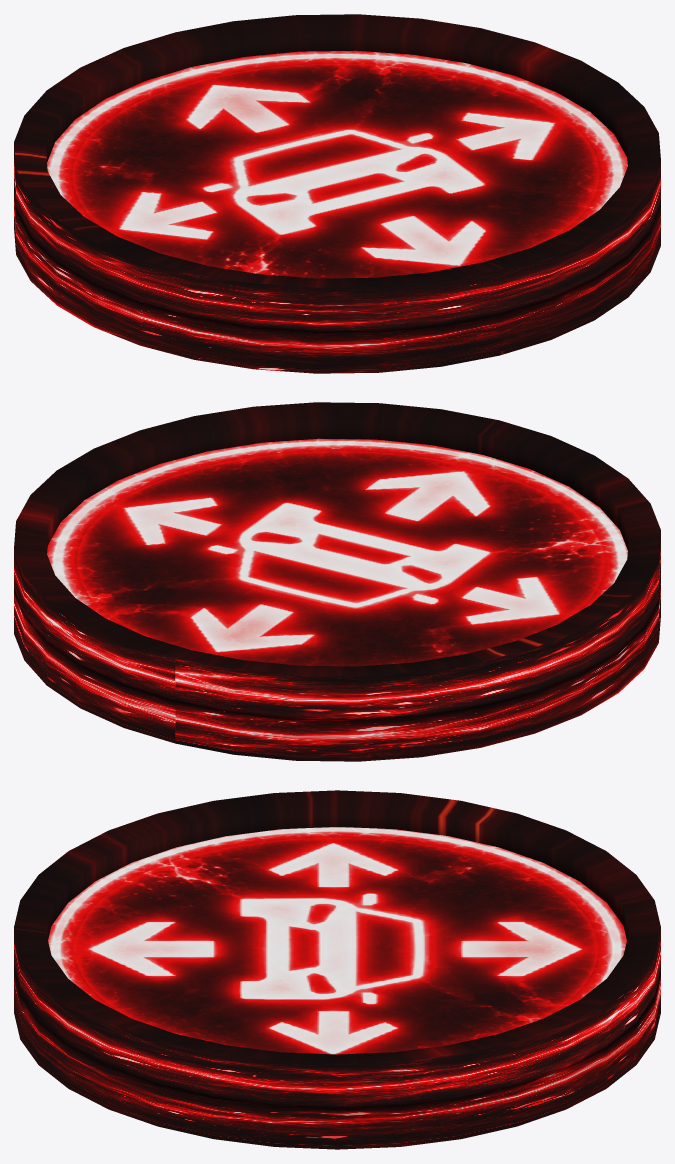
Rendered from puntoGrande.glb.
3 views of the same model, one above another, from view 1: azimuth 30°, elevation 25°; view 2: azimuth 150°, elevation 25°; view 3: azimuth 270°, elevation 25° (orthographic).
Visible parts, largest first — view 1: Cilindro.001; view 2: Cilindro.001; view 3: Cilindro.001.
Boxes of the visible parts, x1,y1,x2,y2 form: Cilindro.001: (14,14,660,373); Cilindro.001: (14,402,660,761); Cilindro.001: (14,790,660,1149).
Size of the model in its own units: 2 by 0.2926 by 2.
1 material, 1 textured.
